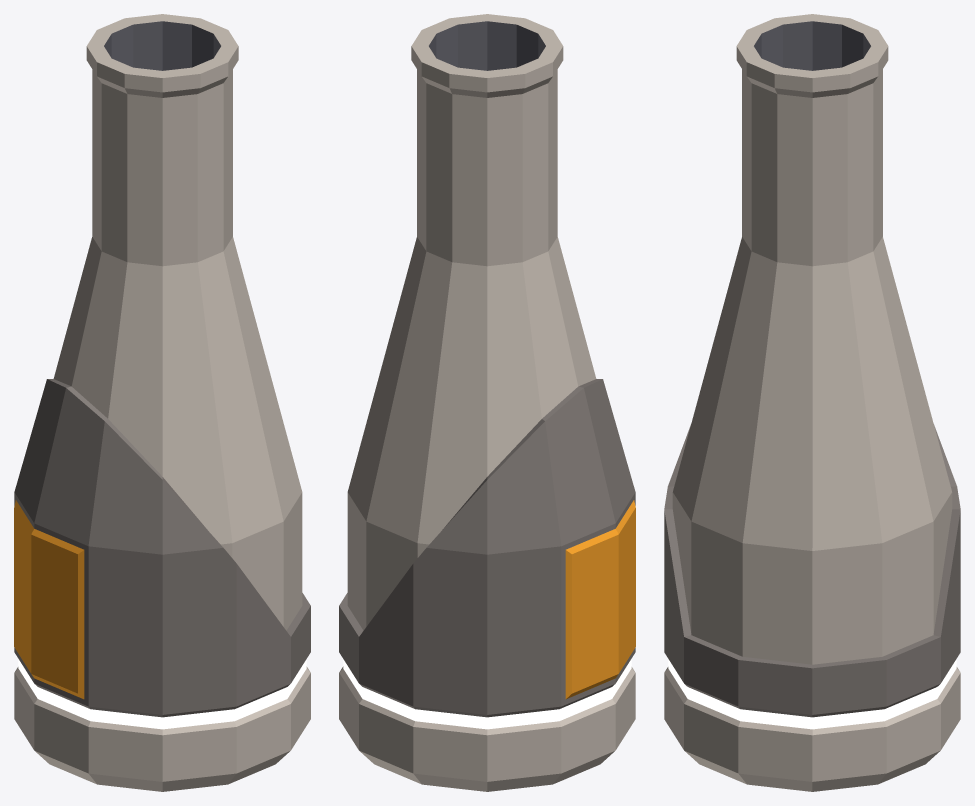
Rendered from SM_Mixture_02_A.glb.
3 views of the same model, side by side, from view 1: azimuth 30°, elevation 25°; view 2: azimuth 150°, elevation 25°; view 3: azimuth 270°, elevation 25° (orthographic).
Visible parts, largest first — view 1: SM_Mixture_02_A; view 2: SM_Mixture_02_A; view 3: SM_Mixture_02_A.
Part boxes in pixels (x1,y1,x2,y2): SM_Mixture_02_A: [14, 14, 310, 791]; SM_Mixture_02_A: [339, 14, 635, 791]; SM_Mixture_02_A: [664, 14, 960, 791].
Size of the model in its own units: 0.0871 by 0.2213 by 0.0861.
2 materials, 1 textured.
